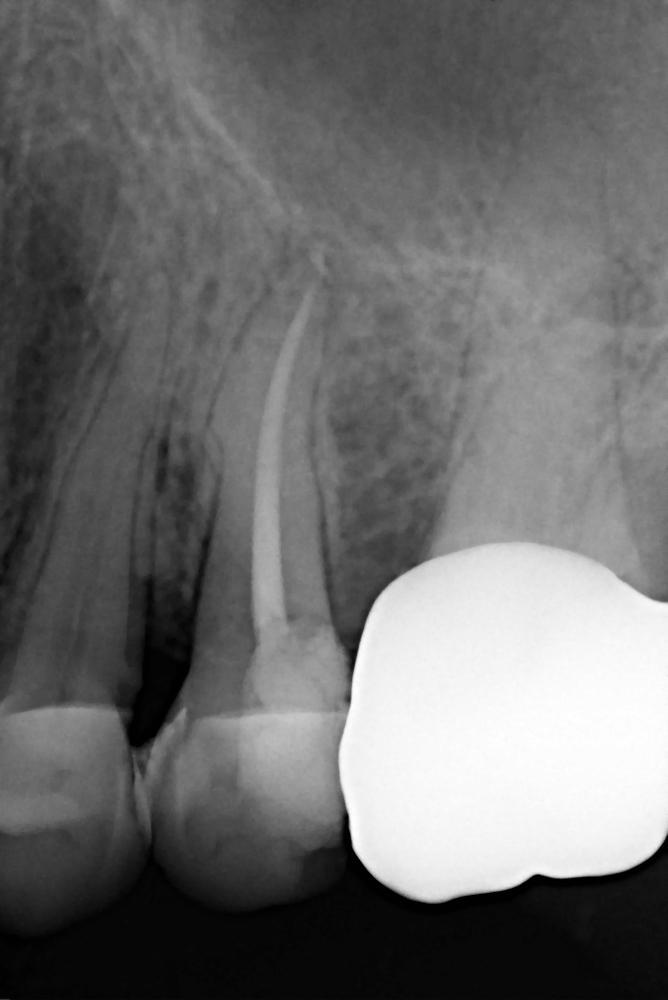Furcation Involvement: (232, 227, 352, 349)
